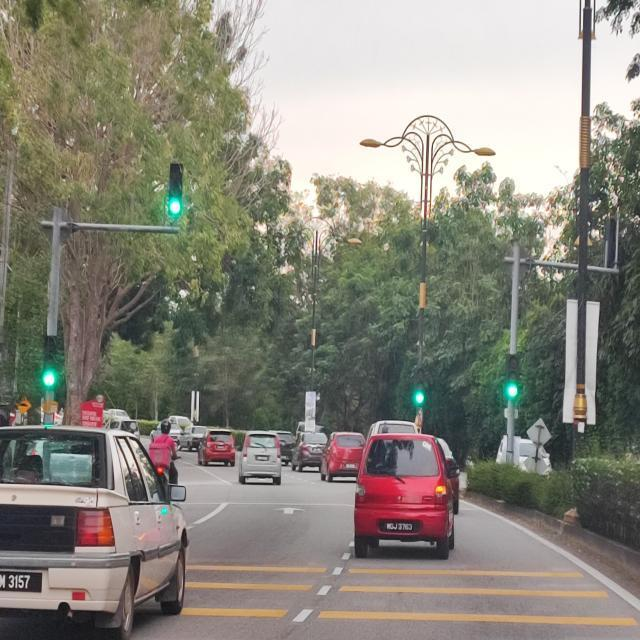green_light: (168, 162, 183, 218), (42, 335, 56, 388), (505, 354, 520, 401), (413, 367, 427, 404)
